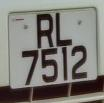1: (59, 44, 72, 84)
2: (69, 42, 92, 83)
5: (39, 45, 62, 85)
7: (18, 45, 42, 90)
L: (52, 8, 76, 48)
R: (32, 10, 56, 50)
